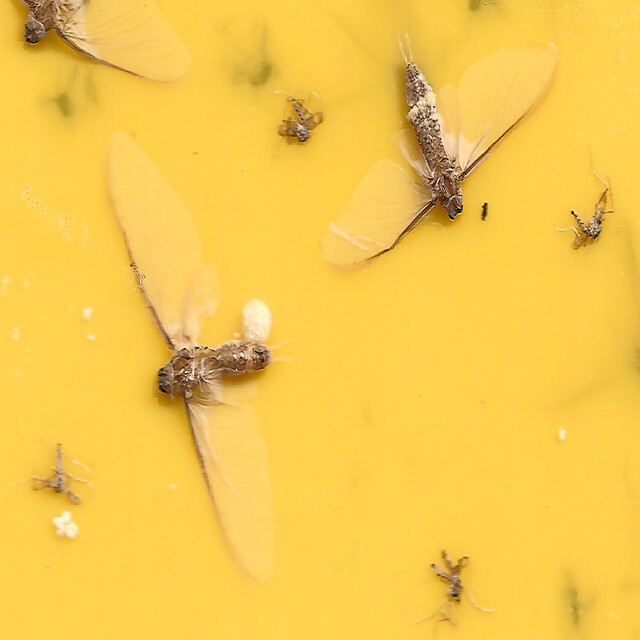Ephemeroptera: (106, 133, 275, 587), (319, 53, 558, 268)
Nematocera: (34, 441, 81, 507), (276, 96, 324, 148), (567, 197, 606, 250)
